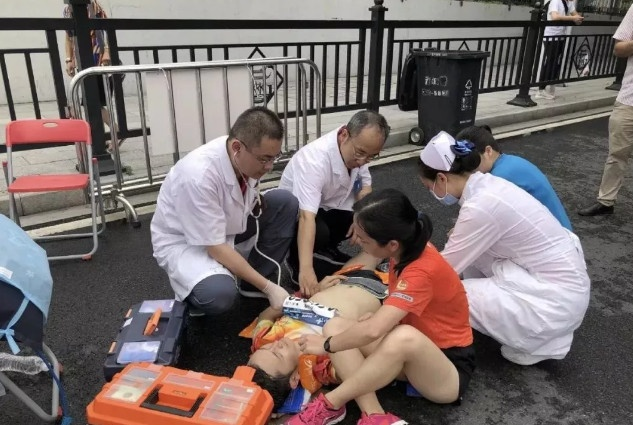falling: (235, 238, 389, 412)
